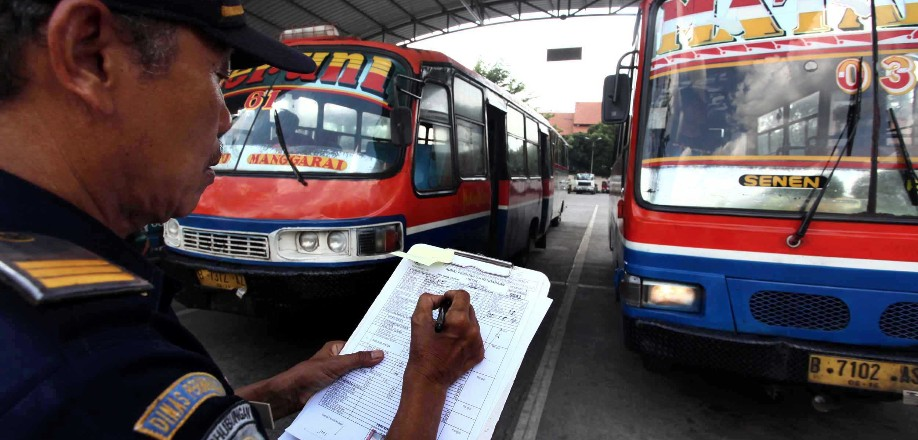plate: (808, 355, 918, 398)
